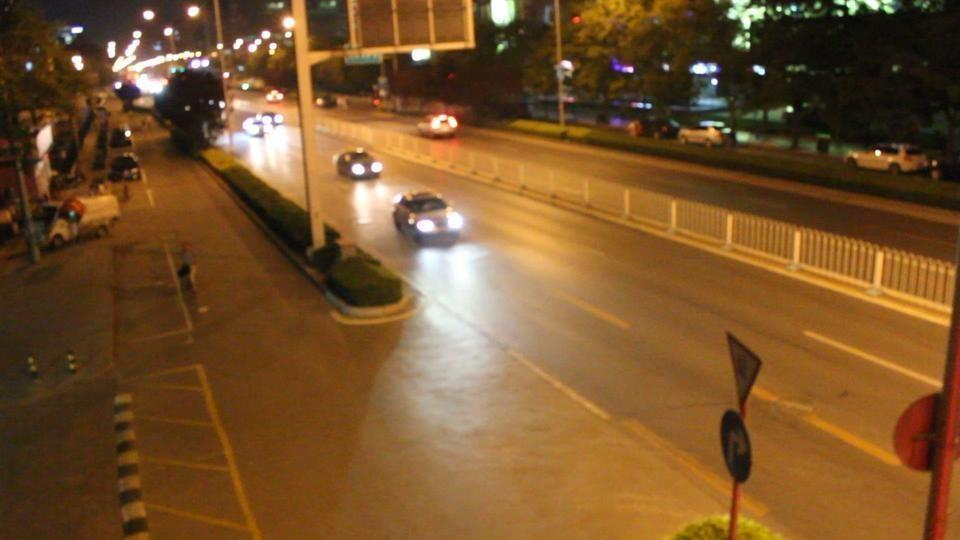car: (308, 236, 408, 324), (44, 190, 121, 250), (392, 190, 466, 247), (845, 142, 938, 176), (334, 147, 384, 179), (678, 123, 734, 148), (416, 113, 460, 139), (109, 153, 143, 182), (243, 113, 281, 137), (109, 124, 134, 148), (314, 93, 339, 109), (236, 79, 260, 92), (264, 89, 285, 103)
